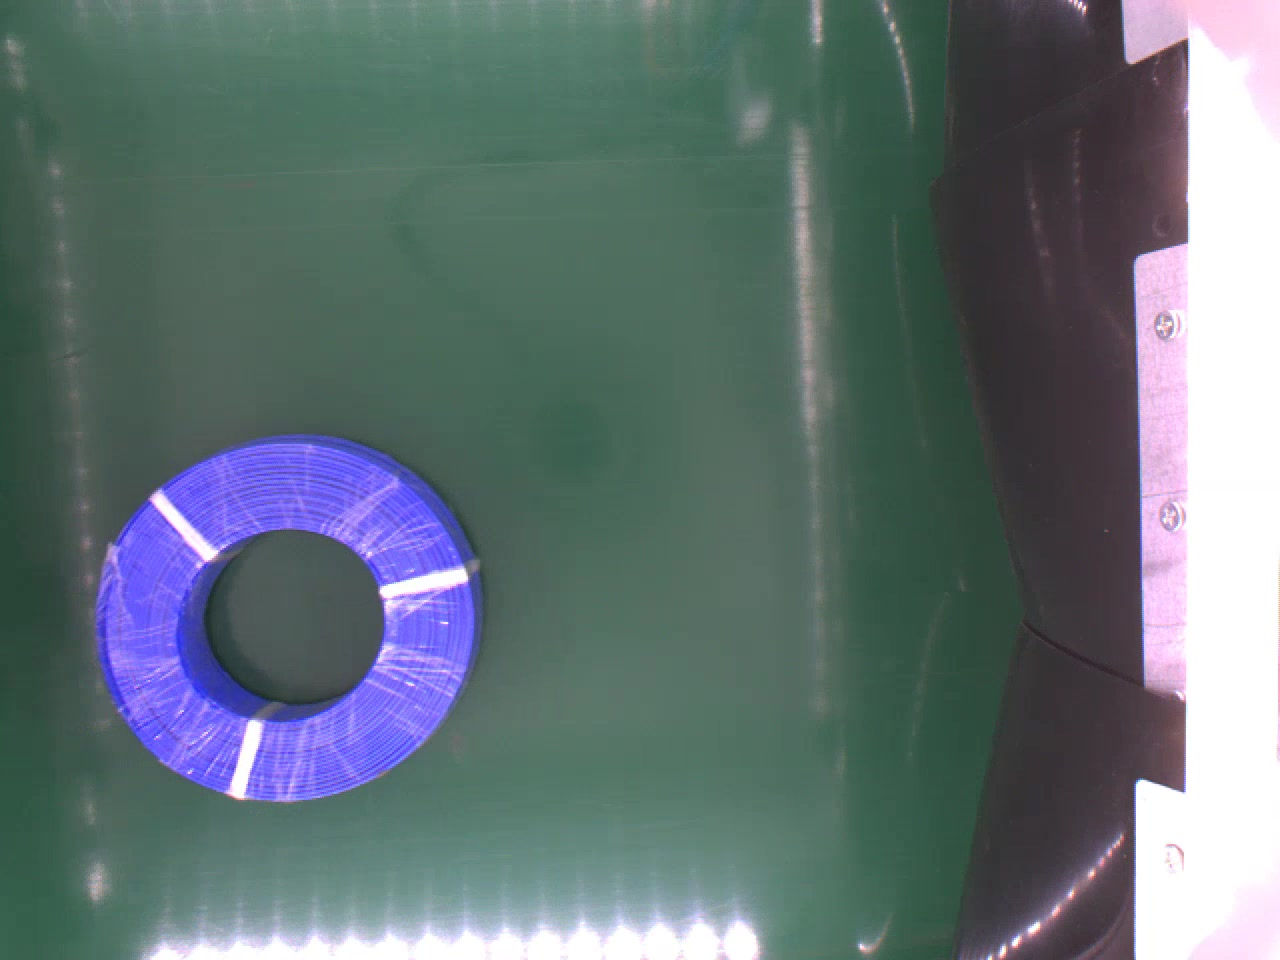blue: (88, 430, 489, 803)
